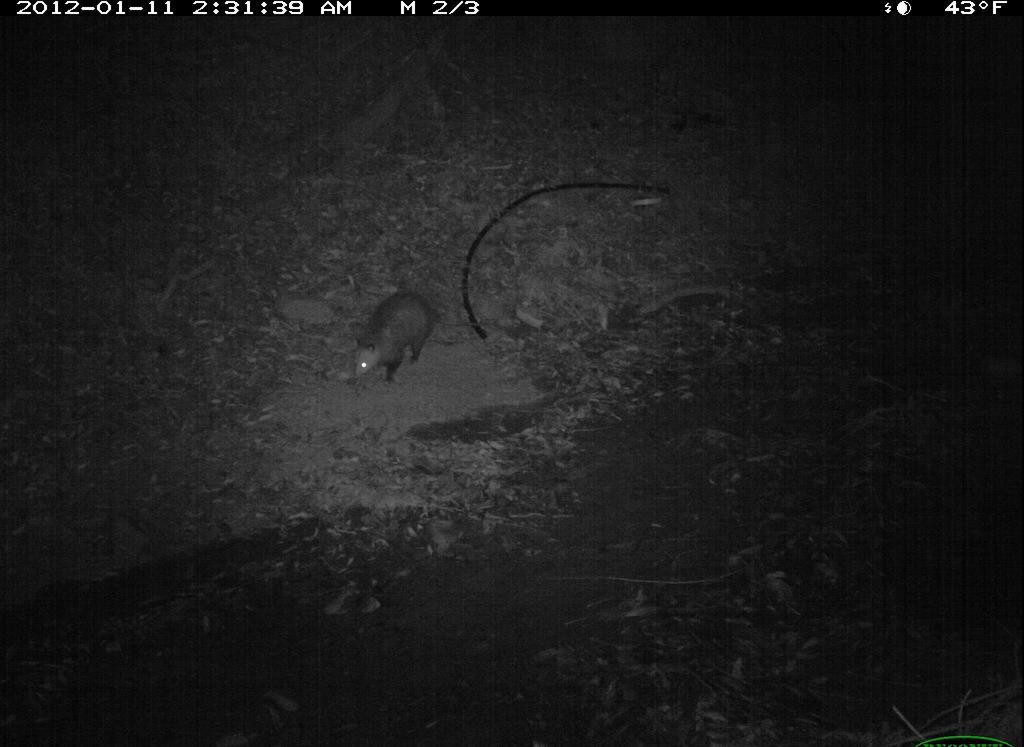opossum: (340, 282, 451, 392)
